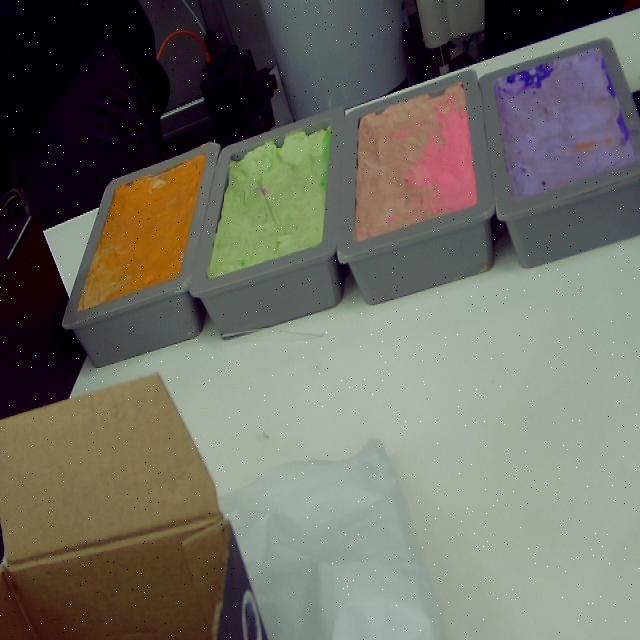block: (334, 68, 497, 306), (477, 36, 640, 268), (186, 109, 350, 337), (56, 144, 222, 366)
